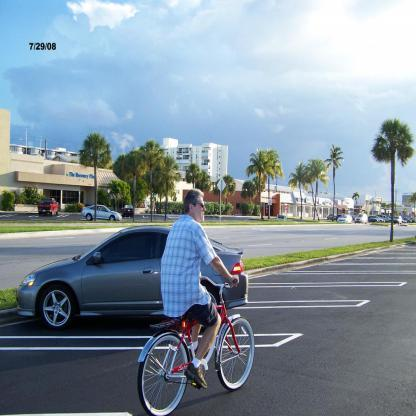car: (13, 224, 248, 329), (83, 203, 122, 220), (124, 203, 134, 217), (338, 214, 352, 223), (356, 214, 367, 224), (370, 215, 384, 222), (393, 216, 402, 223)
